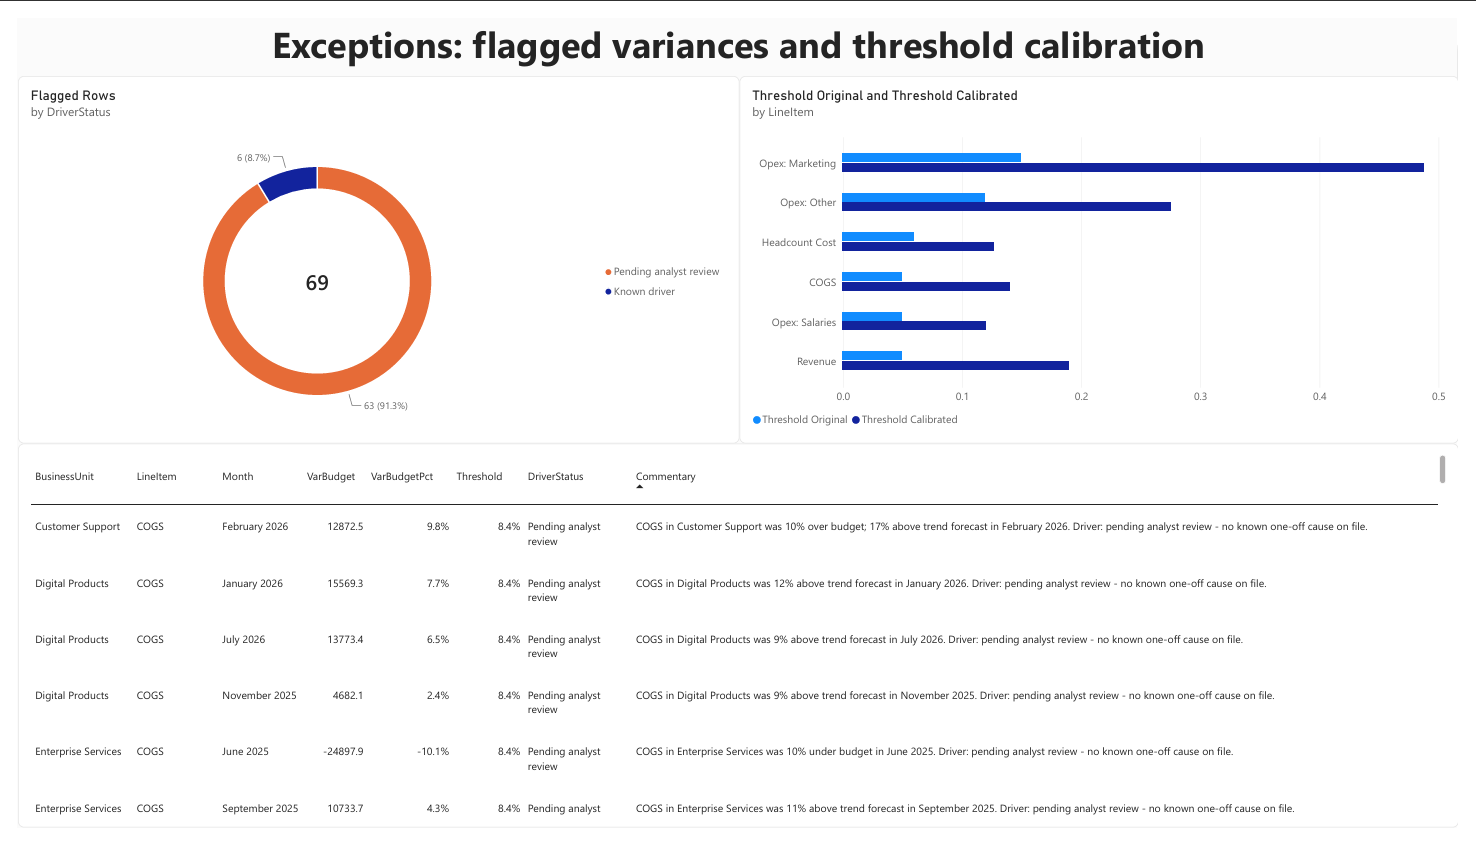

This screenshot's page, from the dashboard's own definition file:
{"tool":"powerbi","page":{"name":"Exceptions","canvas":[1920,1080],"ordinal":1},"visuals":[{"type":"tableEx","fields":{"Values":["Variance.BusinessUnit","Variance.LineItem","Variance.Month","Variance.VarBudget","Variance.VarBudgetPct","Variance.Threshold","Variance.DriverStatus","Variance.Commentary"]},"box":[0,566.1,1920.8,511.6],"z":0},{"type":"donutChart","fields":{"Category":["Variance.DriverStatus"],"Y":["Variance.Flagged Rows"]},"box":[0,75.8,961.6,490.3],"z":1000},{"type":"clusteredBarChart","fields":{"Category":["Thresholds.LineItem"],"Y":["Variance.Threshold Original","Variance.Threshold Calibrated"]},"box":[961.6,75.8,959.2,490.3],"z":2000},{"type":"textbox","box":[0,0,1920.8,75.8],"z":3000}]}

Visuals, with their boxes in screenshot pixels (x1, y1, x2, y2), scaled from the page's 1920x1080 canvas onto the 1476x844 screenshot:
tableEx - Variance.BusinessUnit x Variance.LineItem: bbox=(0, 442, 1475, 842)
donutChart - Variance.DriverStatus x Variance.Flagged Rows: bbox=(0, 59, 739, 442)
clusteredBarChart - Thresholds.LineItem x Variance.Threshold Original: bbox=(739, 59, 1475, 442)
textbox: bbox=(0, 0, 1475, 59)
